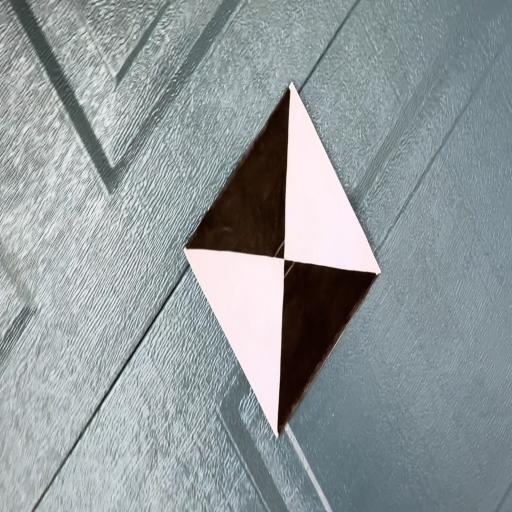target: (184, 84, 381, 438)
